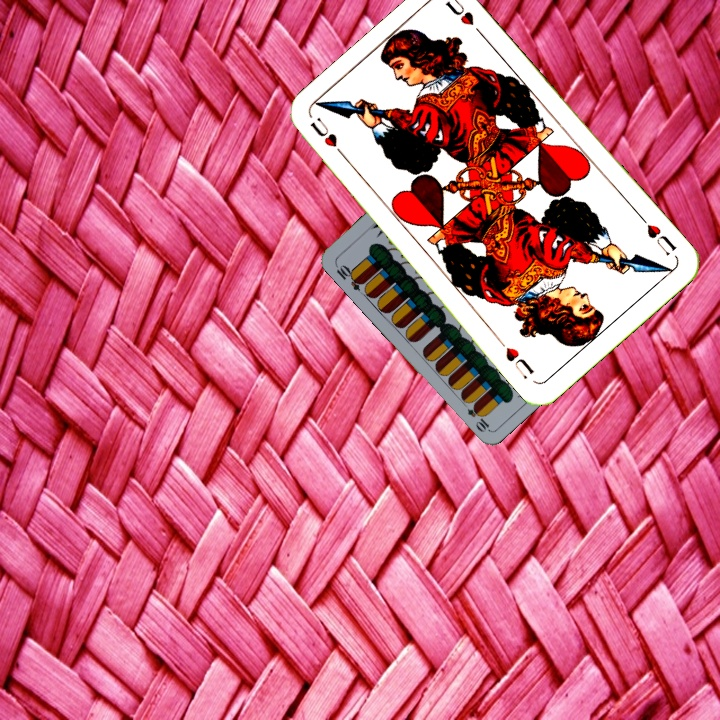E10: (331, 260, 367, 293)
HU: (305, 113, 350, 163), (636, 212, 679, 258)
